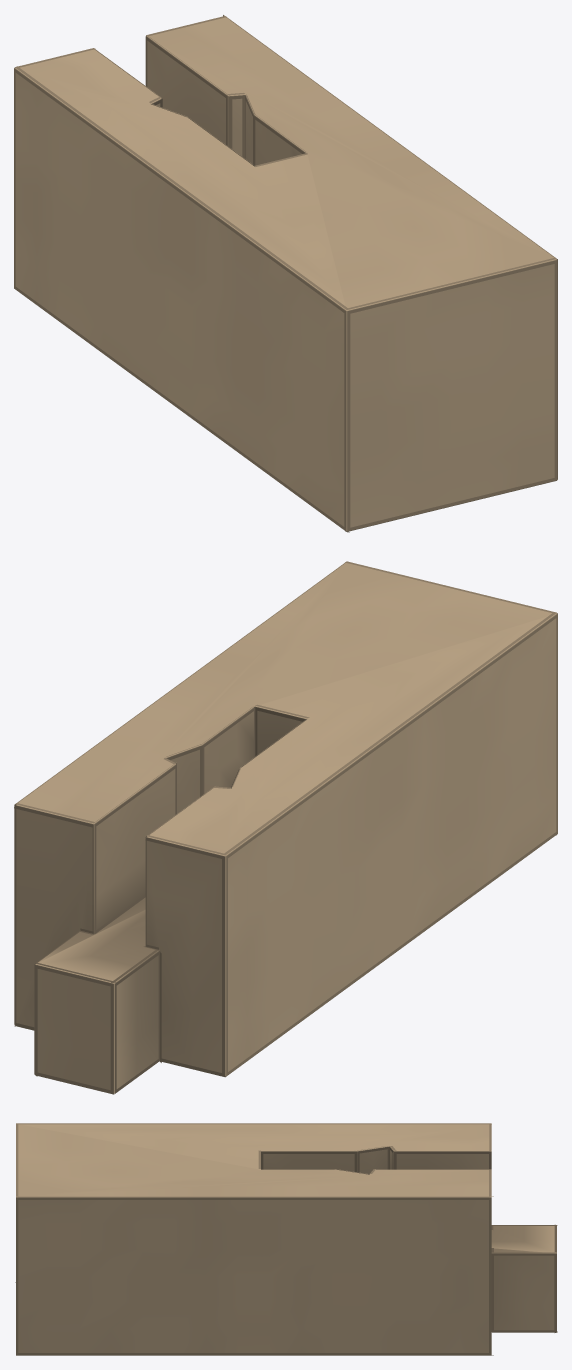
3 views of the same model, one above another, from view 1: azimuth 30°, elevation 25°; view 2: azimuth 150°, elevation 25°; view 3: azimuth 270°, elevation 25° (orthographic). The views are drawn at different scales.
Visible parts, largest first — view 1: part-b; view 2: part-b; view 3: part-b.
Part boxes in pixels (x1,y1,x2,y2): part-b: (14,15,557,532); part-b: (14,561,557,1094); part-b: (15,1123,557,1355).
Bounding box in the file's own units: 0.1058 × 0.1071 × 0.3281.
